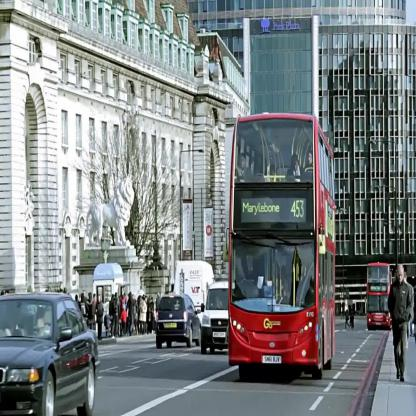bus: (228, 114, 335, 381), (366, 262, 391, 330)
car: (0, 295, 98, 416), (200, 281, 231, 353), (156, 297, 200, 347)
